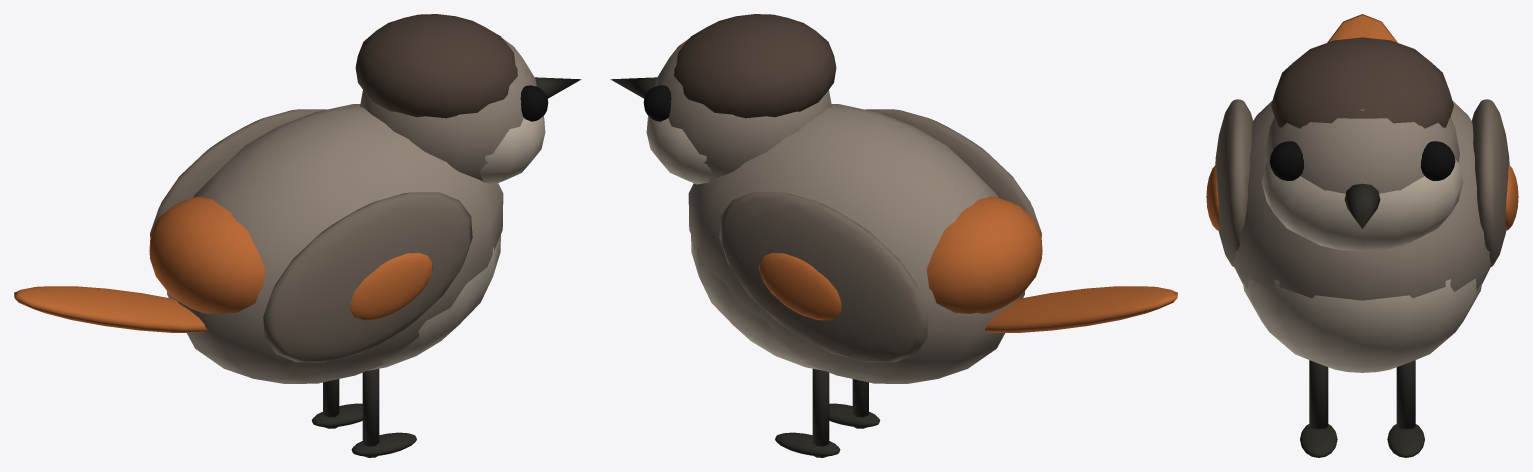
The model's file is jay.glb.
3 views of the same model, side by side, from view 1: azimuth 30°, elevation 25°; view 2: azimuth 150°, elevation 25°; view 3: azimuth 270°, elevation 25° (orthographic). The views are drawn at different scales.
Parts seen in each view (by area): view 1: body, wingNear, head, tail, legs, wingFar, eyes; view 2: body, wingFar, head, tail, legs, wingNear, eyes; view 3: head, body, wingNear, wingFar, legs, eyes, tail, beak.
Part boxes in pixels (left/top/right/bottom): body: left=149, top=104, right=503, bottom=383; wingNear: left=263, top=192, right=472, bottom=362; head: left=355, top=14, right=545, bottom=184; tail: left=14, top=286, right=206, bottom=332; legs: left=311, top=369, right=416, bottom=457; wingFar: left=150, top=109, right=326, bottom=236; eyes: left=520, top=85, right=548, bottom=121; body: left=688, top=104, right=1042, bottom=383; wingFar: left=719, top=192, right=928, bottom=362; head: left=646, top=14, right=836, bottom=184; tail: left=985, top=286, right=1177, bottom=332; legs: left=775, top=369, right=880, bottom=457; wingNear: left=865, top=109, right=1041, bottom=236; eyes: left=643, top=85, right=671, bottom=121; head: left=1261, top=37, right=1463, bottom=251; body: left=1233, top=100, right=1491, bottom=372; wingNear: left=1206, top=99, right=1253, bottom=267; wingFar: left=1471, top=99, right=1518, bottom=267; legs: left=1300, top=360, right=1424, bottom=457; eyes: left=1269, top=141, right=1455, bottom=180; tail: left=1327, top=14, right=1397, bottom=42; beak: left=1344, top=183, right=1380, bottom=228.
Bounding box in the file's own units: 1.07 × 0.7104 × 0.464.
